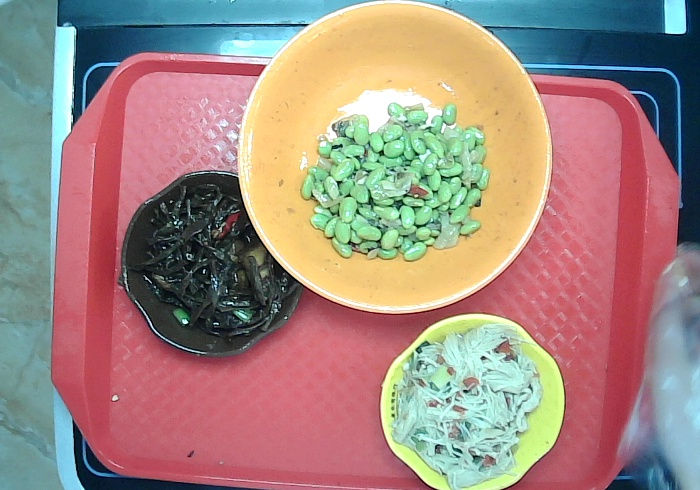YKMZ-Huang_Se_Ao_Bian_Wan: (377, 310, 567, 490)
YKMZ-Ju_Se_Tang_Wan: (236, 1, 554, 316)
YKMZ-Ka_Fei_Ao_Bian_Wan: (119, 168, 304, 358)
